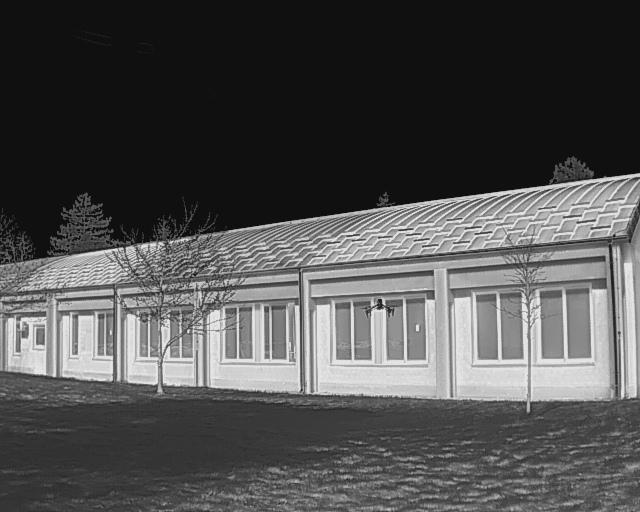drone: (357, 298, 400, 320)
